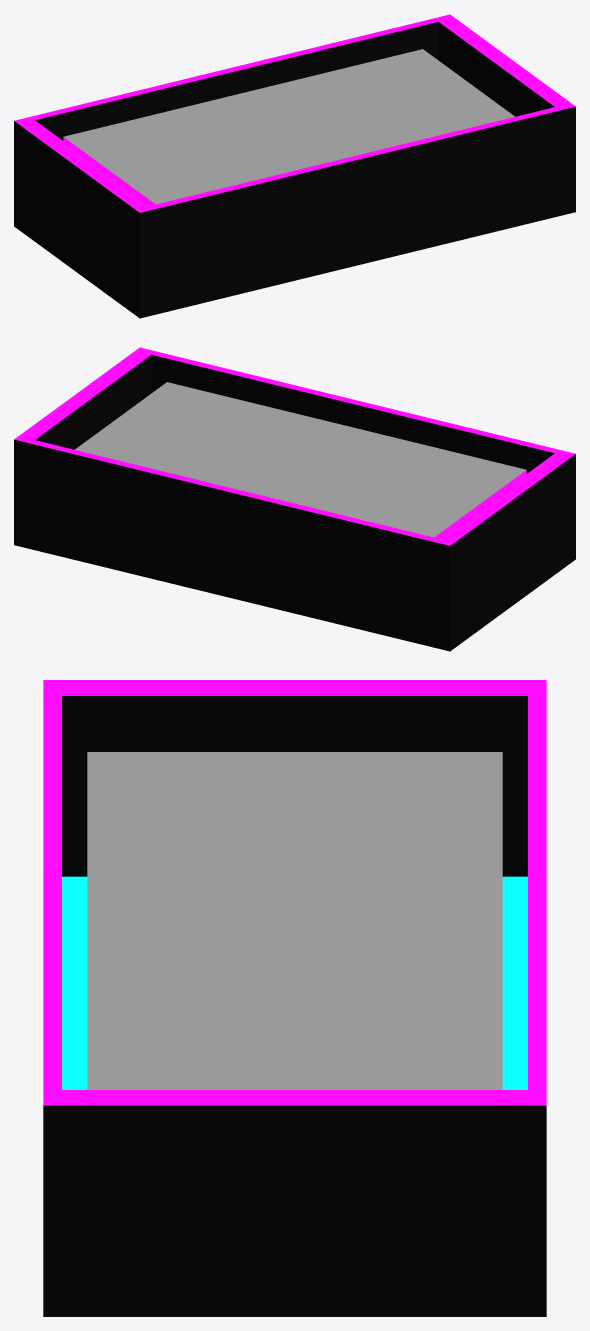
The model's file is Botão_Transmitir_R00.fbx.
3 views of the same model, one above another, from view 1: azimuth 30°, elevation 25°; view 2: azimuth 150°, elevation 25°; view 3: azimuth 270°, elevation 25° (orthographic). The views are drawn at different scales.
Parts seen in each view (by area): view 1: pCube1, pCube2; view 2: pCube1, pCube2; view 3: pCube1, pCube2.
Boxes of the visible parts, box(x1,y1,x2,y2) form: pCube1: box(14, 14, 575, 318); pCube2: box(63, 49, 514, 205); pCube1: box(14, 347, 575, 651); pCube2: box(75, 382, 526, 538); pCube1: box(43, 680, 546, 1316); pCube2: box(87, 752, 502, 1089).
Size of the model in its own units: 2 by 0.4627 by 1.
